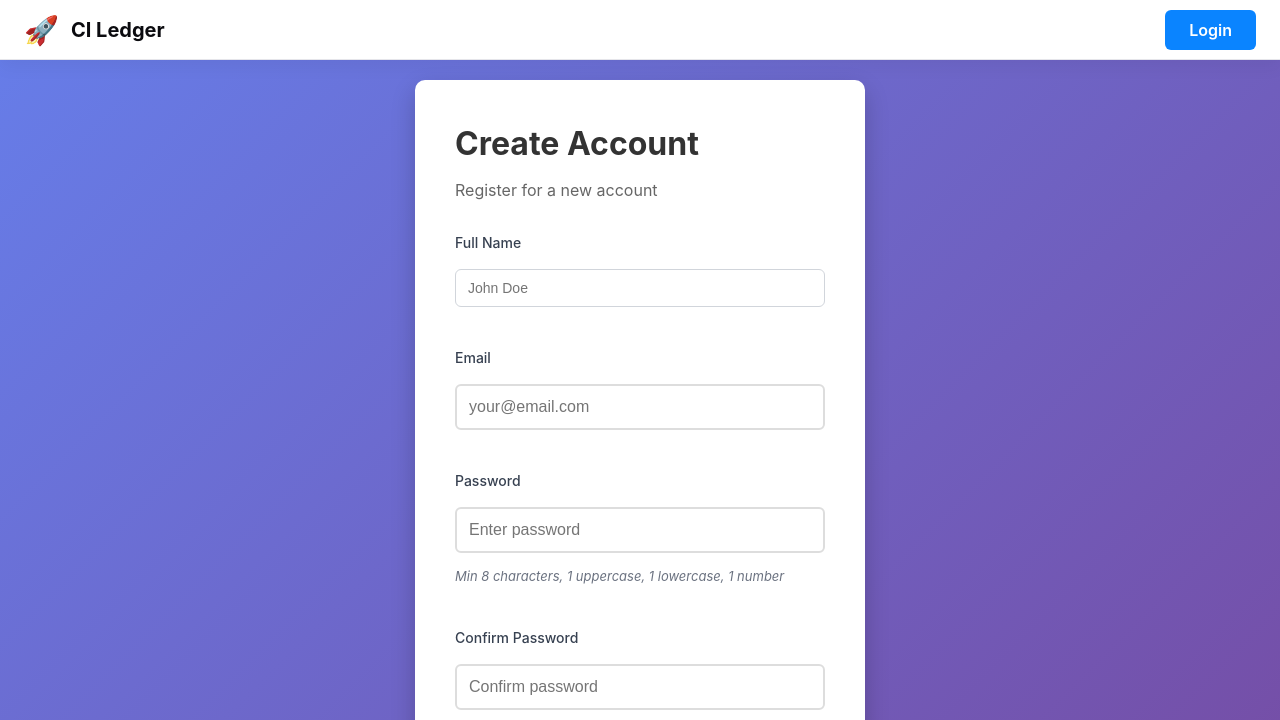
RegisterPage Component › displays error on duplicate email
The image size is (1280, 720).
Type "Test User" into the field with placeholder "John Doe". click: (640, 288)
box: [455, 269, 825, 307]
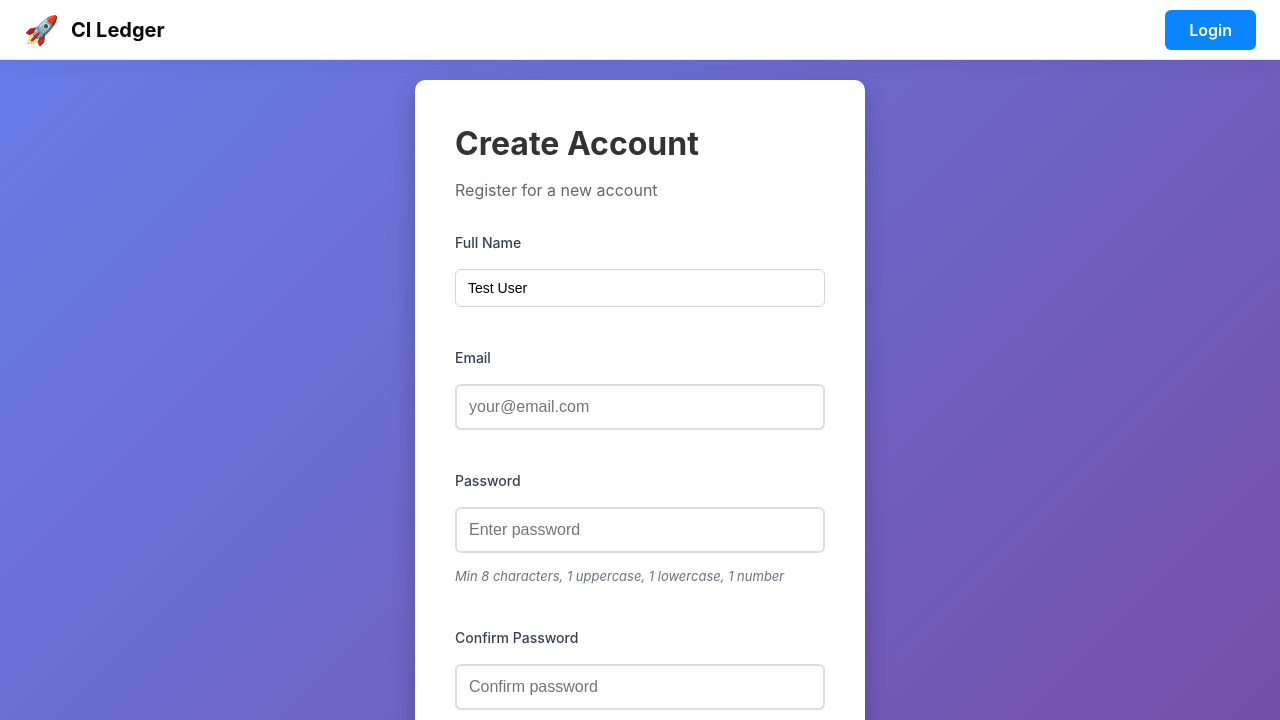
Type "existing@example.com" into the field with placeholder "your@email.com". click: (640, 407)
box: [455, 384, 825, 430]
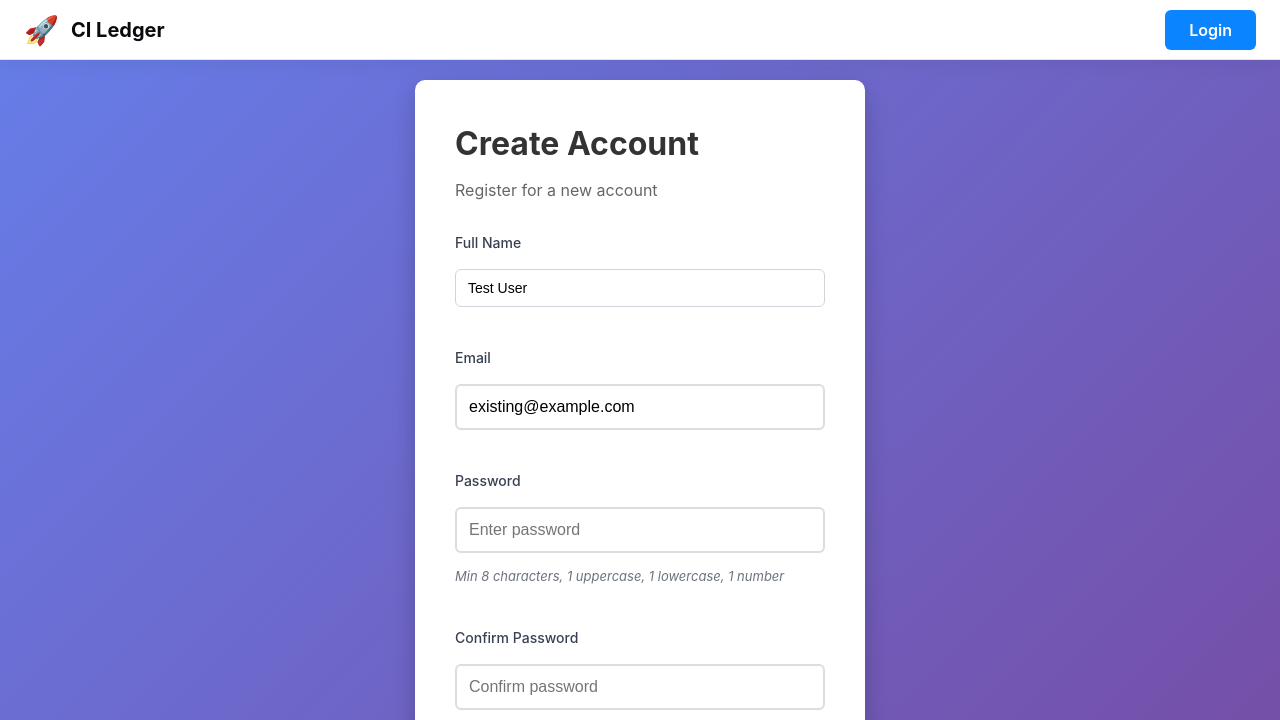
Type "StrongPass123" into the password field with placeholder "Enter password". click: (640, 530)
box: [455, 507, 825, 553]
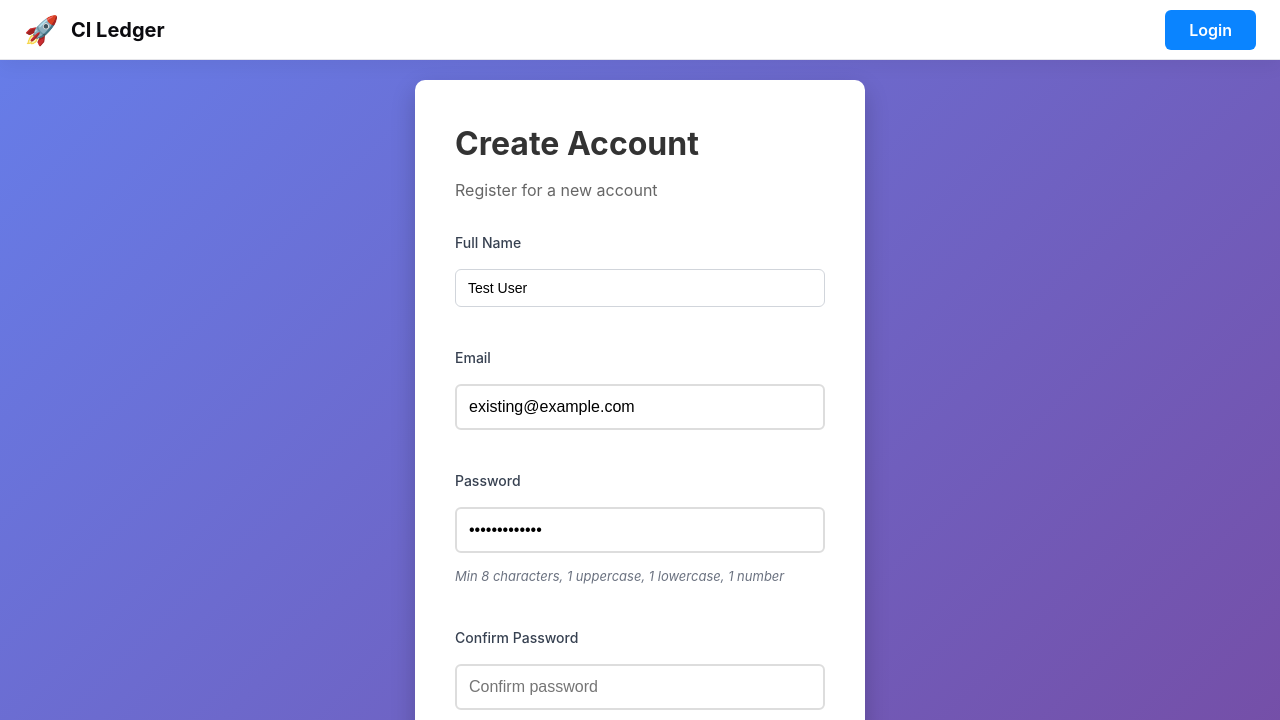
Type "StrongPass123" into the password field with placeholder "Confirm Password". click: (640, 686)
box: [455, 664, 825, 710]
(page scrolled)
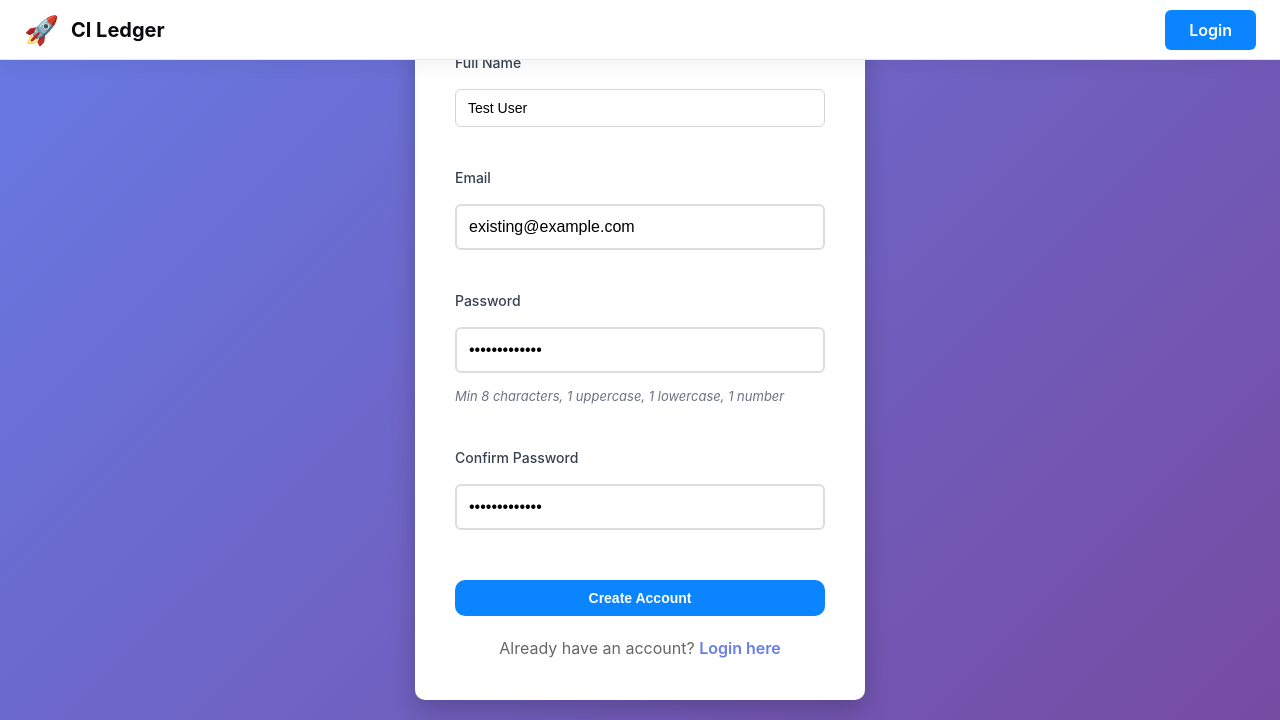
Click the button "Create Account". click: (640, 598)
box: [455, 580, 825, 616]
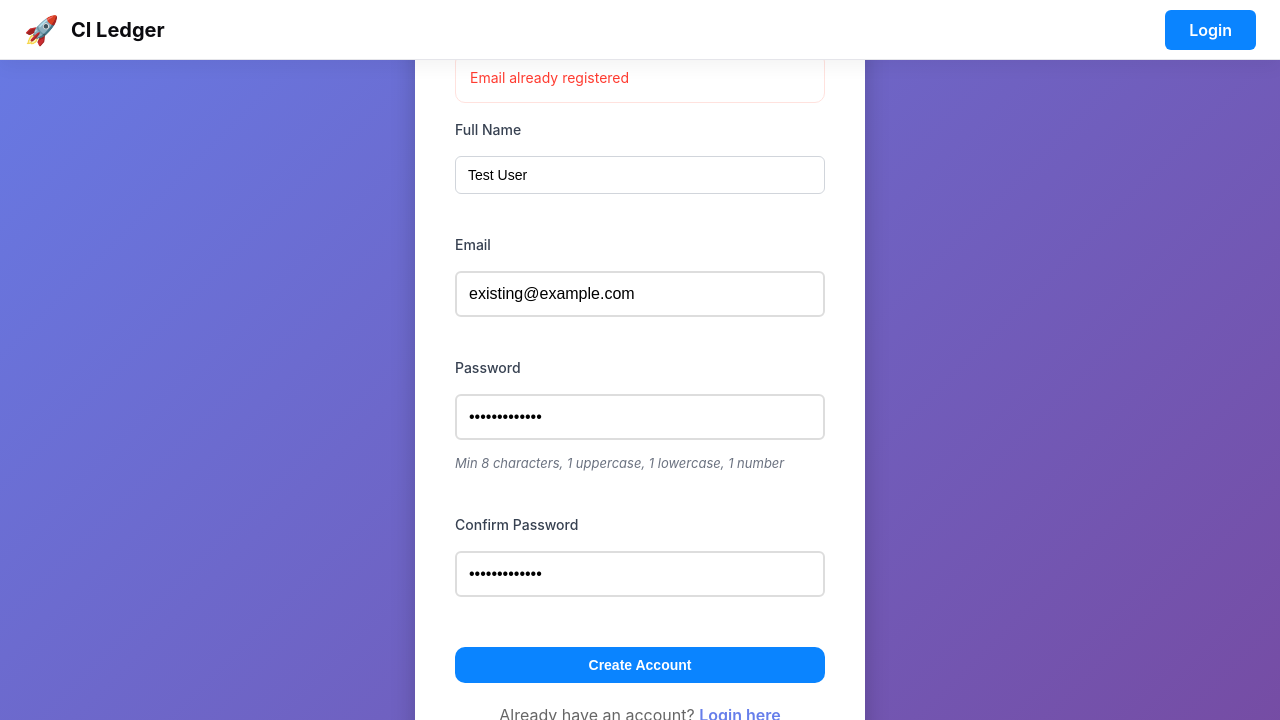
Expected: the text "Email already registered" is shown, [455, 52, 825, 103]
